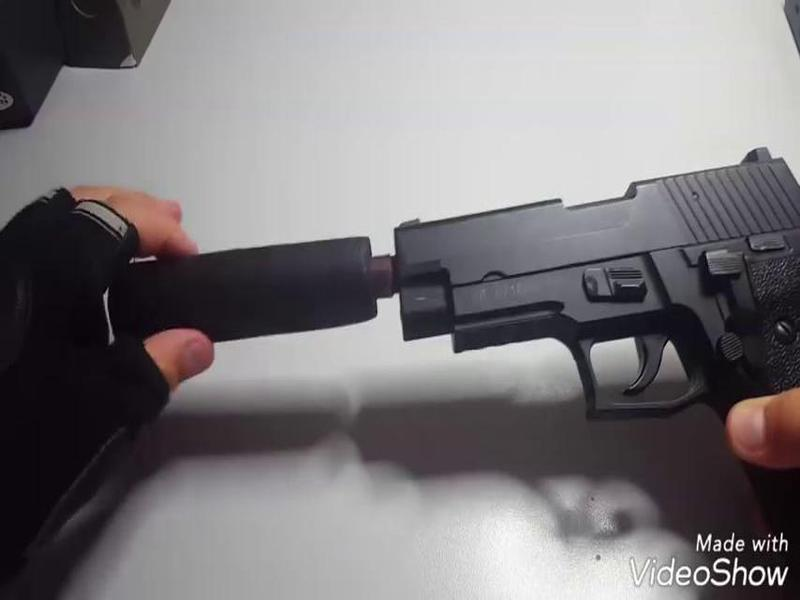Pistola: (397, 150, 800, 527)
